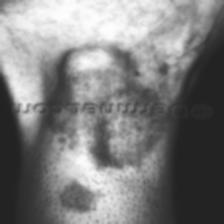Unclassified: (53, 48, 162, 170), (61, 182, 100, 216)
